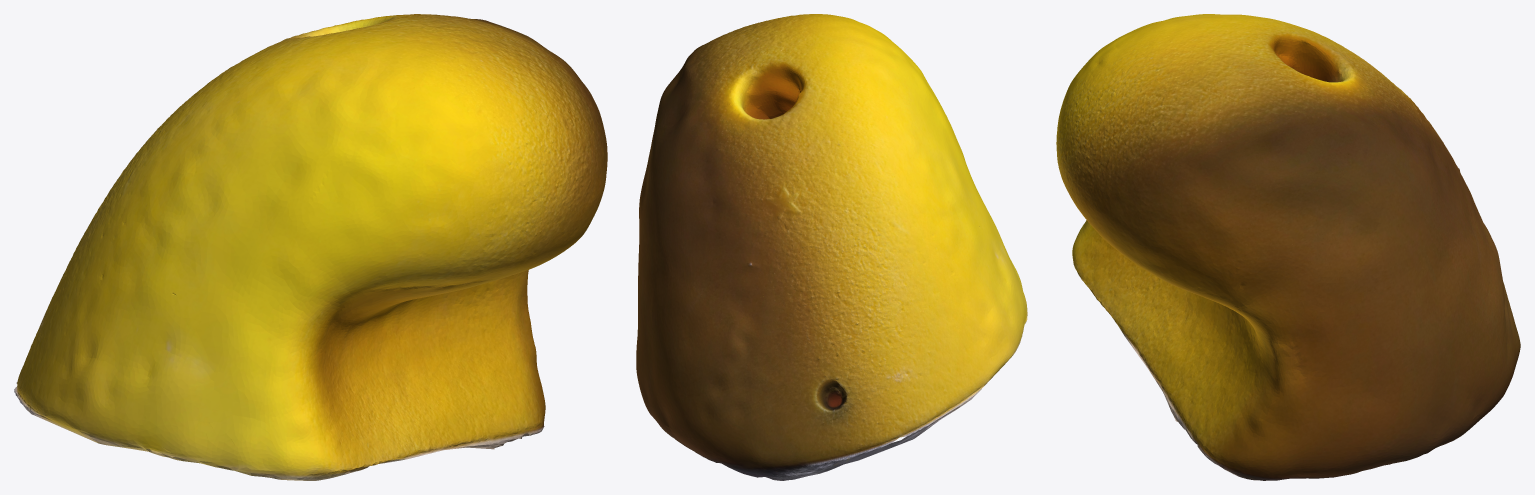
File: Teknik_BigBullies_5.glb
3 renders of one model, left to right at view 1: azimuth 30°, elevation 25°; view 2: azimuth 150°, elevation 25°; view 3: azimuth 270°, elevation 25°, orthographic. The views are drawn at different scales.
Size of the model in its own units: 0.7533 by 0.6675 by 0.7163.
1 material, 1 textured.
